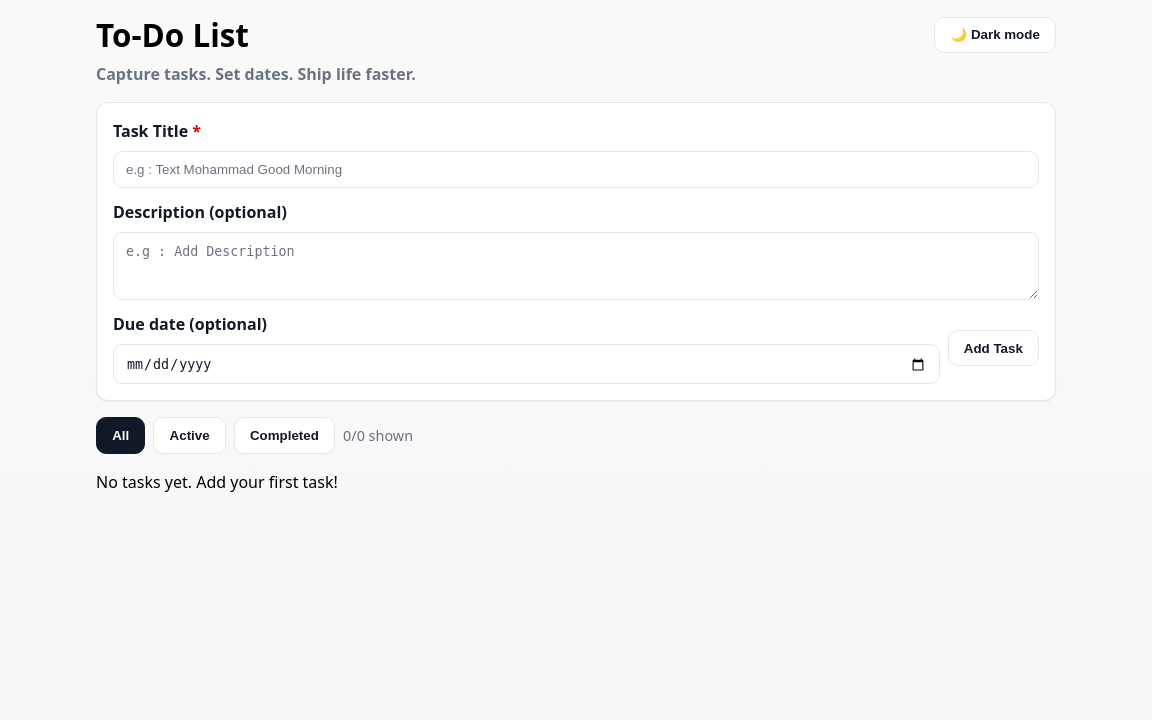
Scenario: adds a new task via TaskInput
Step 1. Type "Buy milk" into the field labelled "Task Title *" → (576, 170), box x1=113 y1=151 x2=1039 y2=188
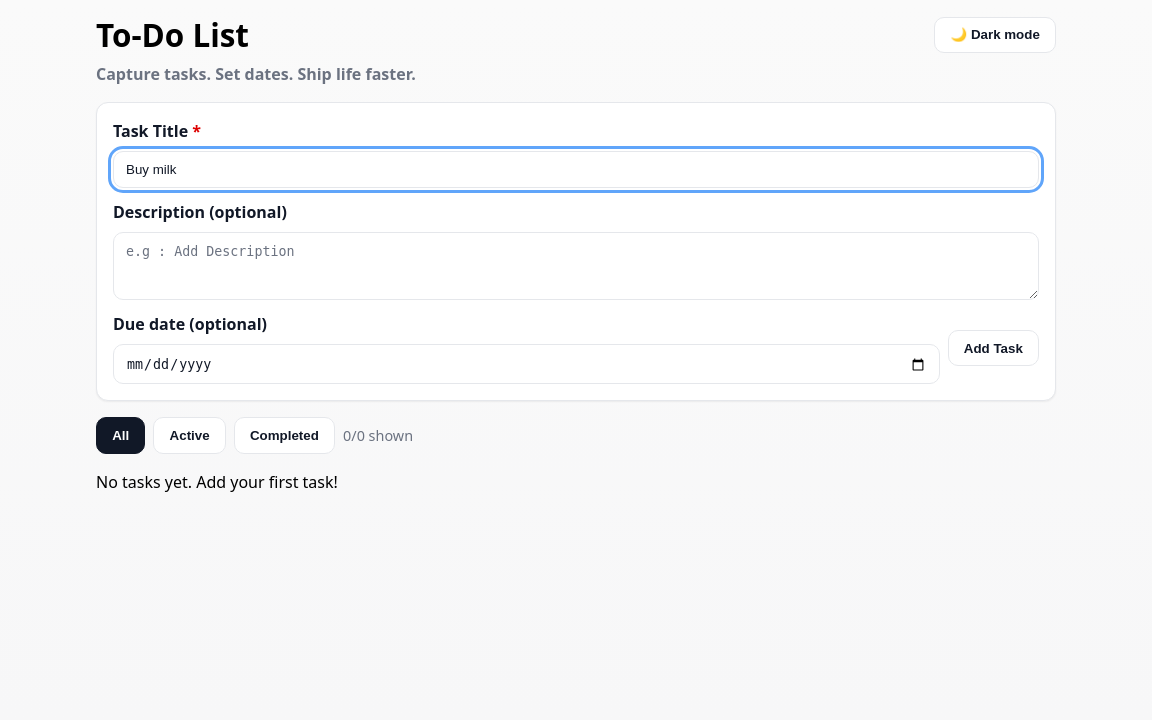
Step 2. Type "2 liters" into the text box labelled "Description (optional)" → (576, 266), box x1=113 y1=232 x2=1039 y2=300
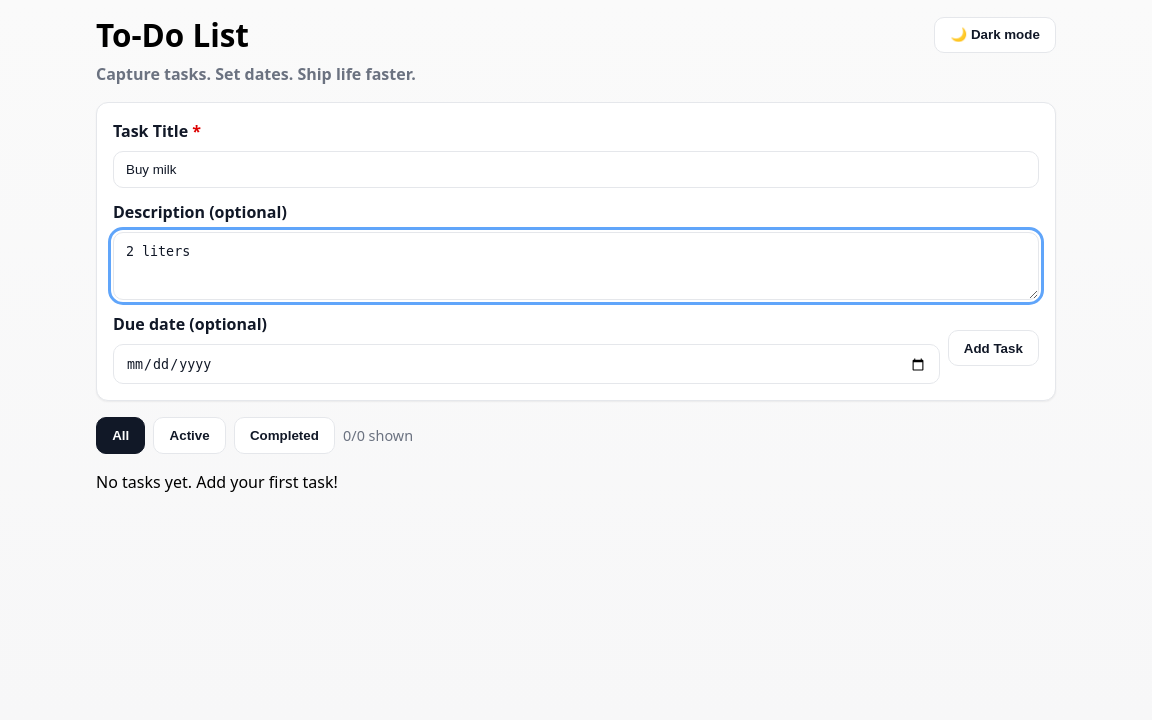
Step 3. Click the button "Add Task" → (993, 348), box x1=948 y1=330 x2=1039 y2=366
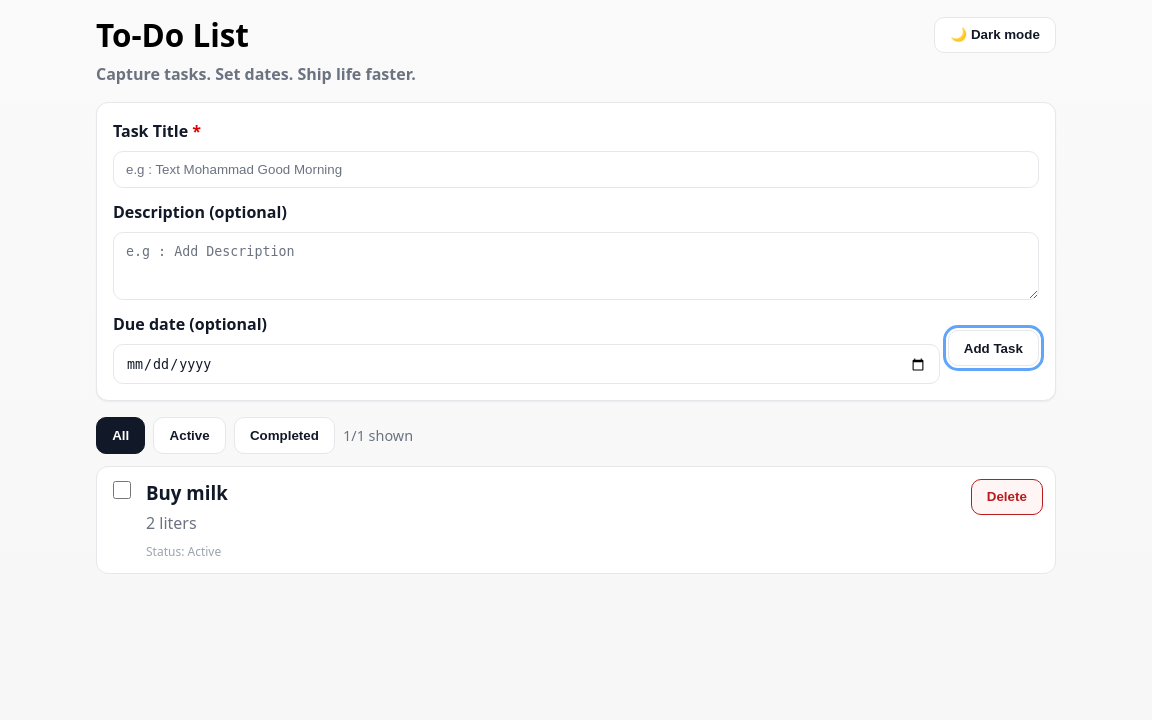
Check: the heading "Buy milk" is shown, box x1=146 y1=480 x2=228 y2=505
Check: the text "2 liters" is shown, box x1=146 y1=512 x2=197 y2=534
